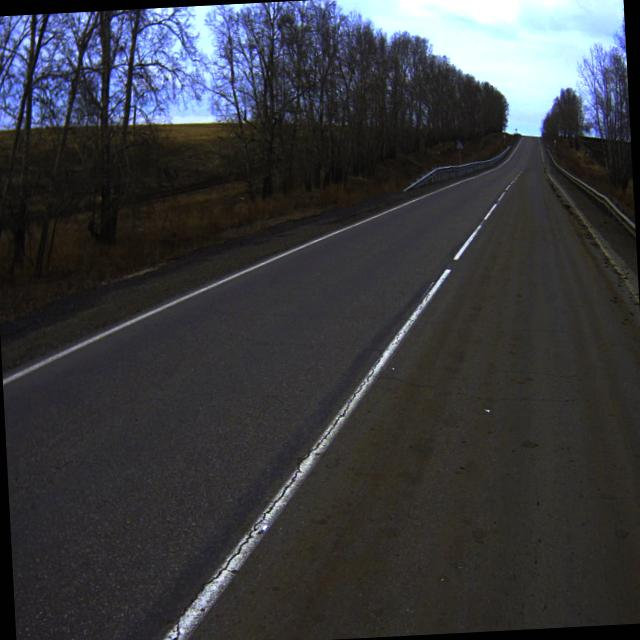road: (3, 137, 640, 640)
